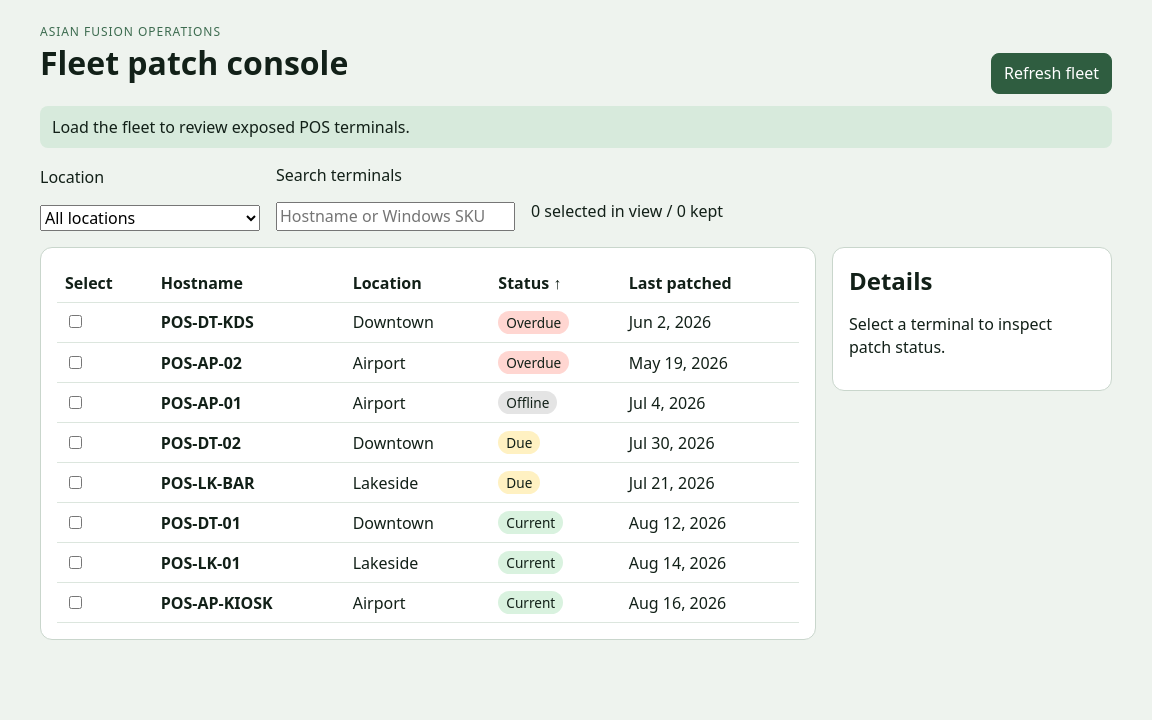
Test: Fusion fleet console › loads terminals and keeps a selection after the location filter changes
Click the checkbox named "Select POS-DT-01". click: coordinates (76, 522)
box: [69,516,82,529]
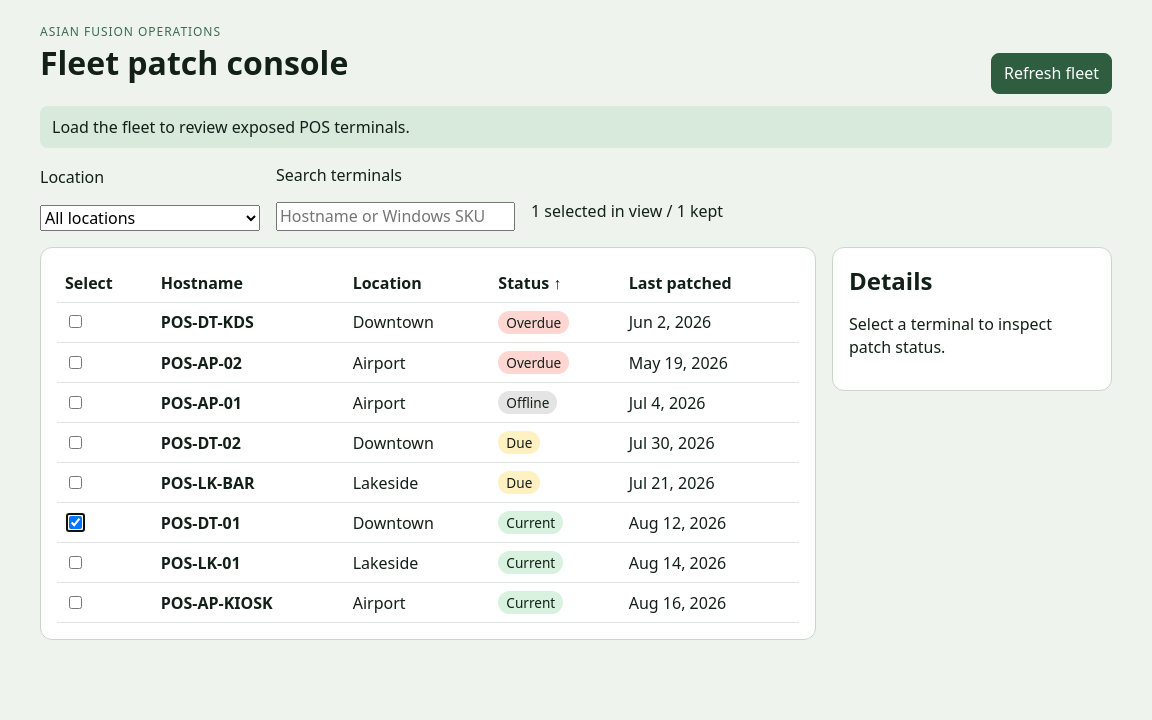
Check: the checkbox named "Select POS-DT-01" is checked, box [69,516,82,529]
Select "Airport" in the dropdown labelled "Location". click: coordinates (150, 218)
box: [40,205,260,231]
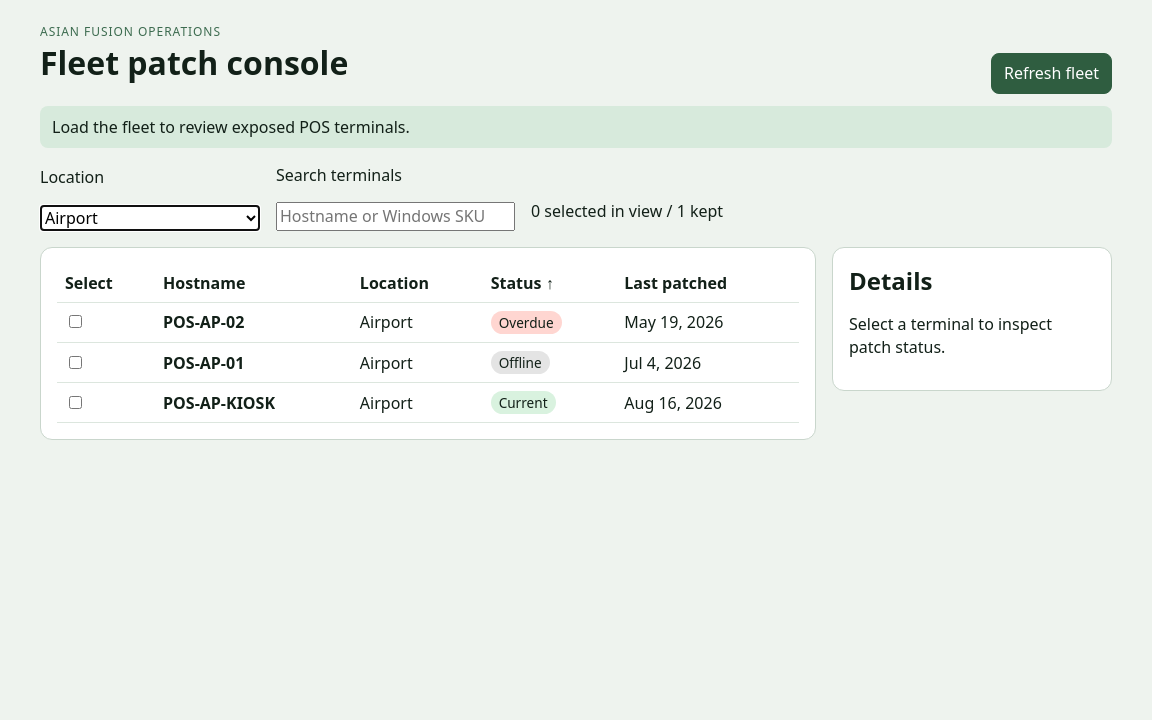
Check: the text "0 selected in view / 1 kept" is shown, box [531,200,723,223]
Select "All locations" in the dropdown labelled "Location". click: coordinates (150, 218)
box: [40,205,260,231]
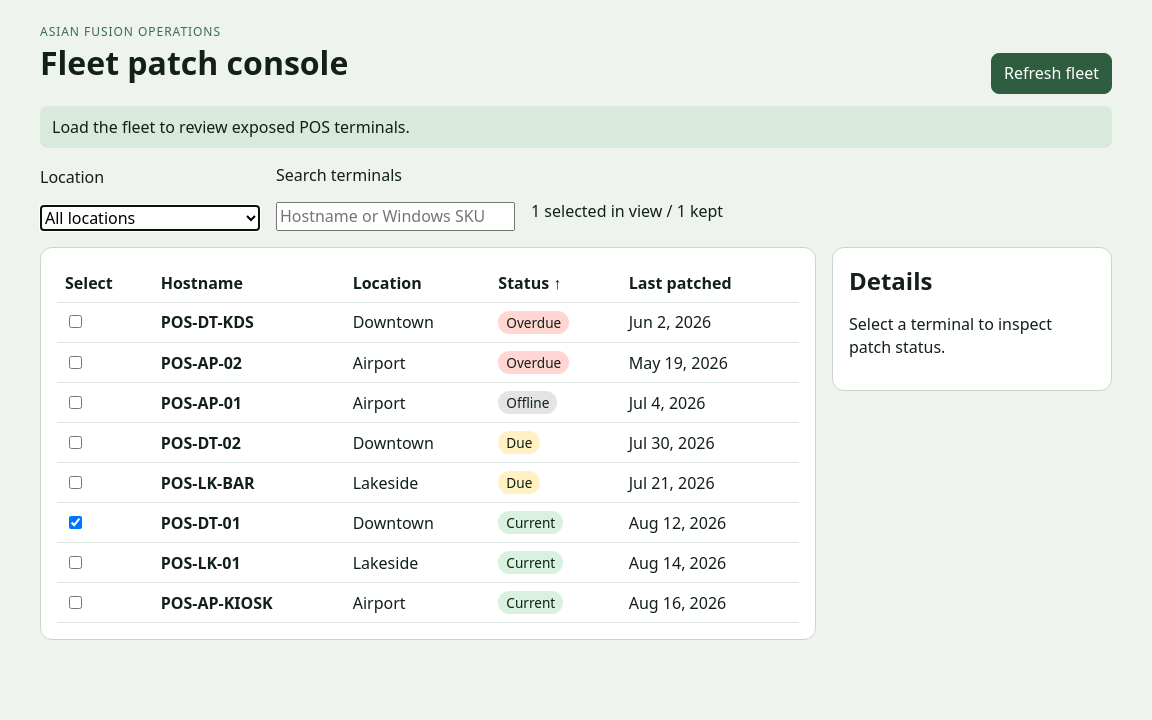
Check: the checkbox named "Select POS-DT-01" is checked, box [69,516,82,529]
